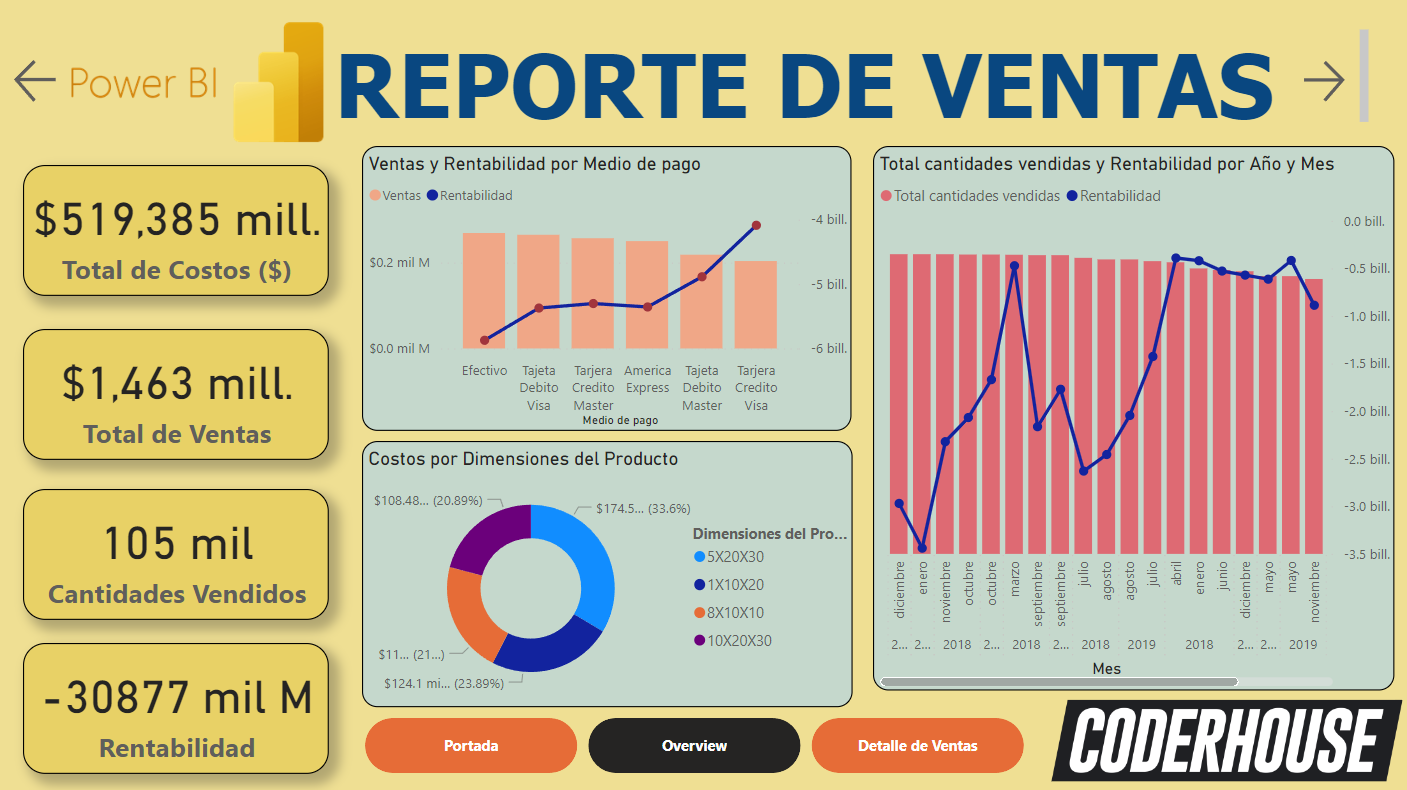

The page's visual inventory and layout, read from the dashboard file:
{"tool":"powerbi","page":{"name":"Overview","canvas":[1280,720],"ordinal":1},"visuals":[{"type":"image","box":[59.6,8.8,239.2,132.8],"z":0},{"type":"textbox","box":[299,23,950,100],"z":1000},{"type":"image","box":[951.1,627.8,328.9,92.2],"z":2000},{"type":"card","fields":{"Values":["Venta.Costo_Total"]},"box":[20.9,150.9,278.2,119.1],"z":3000},{"type":"card","fields":{"Values":["Venta.Venta_Total"]},"box":[21,300,278,119],"z":4000},{"type":"card","fields":{"Values":["Medidas.Productos Vendidos"]},"box":[21,445,278,119],"z":5000},{"type":"card","fields":{"Values":["Venta.Rentabilidad"]},"box":[21,585,278,119],"z":6000},{"type":"bookmarkNavigator","box":[0,0,600,50],"z":7000},{"type":"pageNavigator","box":[332,654,600,50],"z":8000},{"type":"donutChart","fields":{"Y":["Venta.Costo_Total"],"Category":["Productos.Dimensiones Cm"]},"box":[328.9,402.2,445.6,242.2],"z":9000},{"type":"lineClusteredColumnComboChart","fields":{"Category":["Medios de pago.Nombre de pago"],"Y":["Venta.Venta_Total"],"Y2":["Venta.Rentabilidad"]},"box":[329.1,133.6,445.5,259.1],"z":10000},{"type":"lineStackedColumnComboChart","fields":{"Category":["Calendario.Año","Calendario.Nombre Mes"],"Y":["Medidas.Precio producto"],"Y2":["Venta.Rentabilidad"]},"box":[793.7,133.3,473.6,494.6],"z":11000},{"type":"actionButton","box":[1169.7,42,96.7,66.4],"z":12000},{"type":"actionButton","box":[7.8,49.8,104.5,48.8],"z":13000}]}

Visuals, with their boxes in screenshot pixels (x1, y1, x2, y2), scaled from the page's 1280x720 canvas onto the 1407x790 screenshot:
image: 66,10,328,155
textbox: 329,25,1373,135
image: 1045,689,1406,789
card - Venta.Costo_Total: 23,166,329,296
card - Venta.Venta_Total: 23,329,329,460
card - Medidas.Productos Vendidos: 23,488,329,619
card - Venta.Rentabilidad: 23,642,329,772
bookmarkNavigator: 0,0,660,55
pageNavigator: 365,718,1024,772
donutChart - Venta.Costo_Total x Productos.Dimensiones Cm: 362,441,851,707
lineClusteredColumnComboChart - Medios de pago.Nombre de pago x Venta.Venta_Total: 362,147,851,431
lineStackedColumnComboChart - Calendario.Año x Calendario.Nombre Mes: 872,146,1393,689
actionButton: 1286,46,1392,119
actionButton: 9,55,123,108
